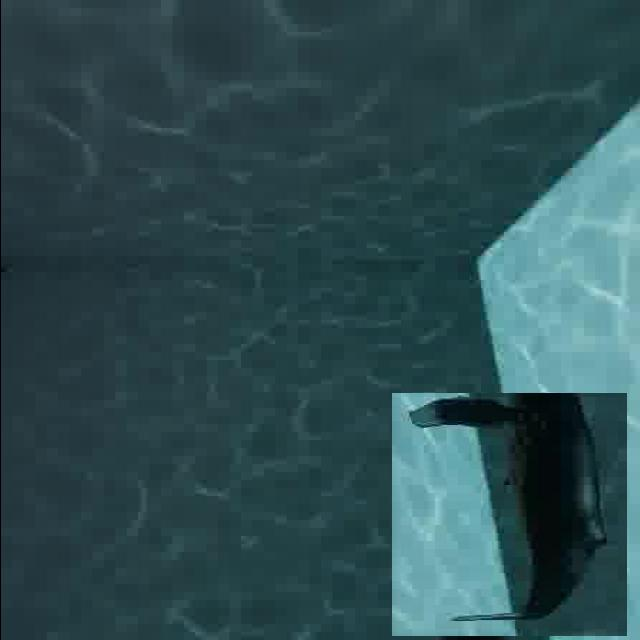Whale: (390, 393, 626, 637)
